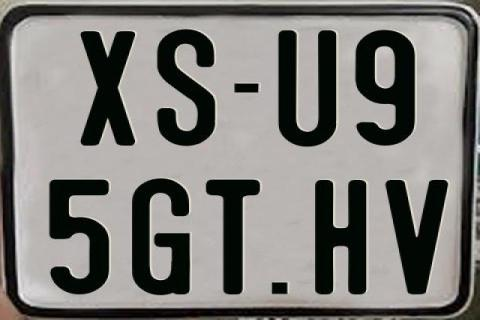0: (48, 179, 111, 297), (356, 28, 416, 146)
G: (129, 177, 191, 293)
H: (314, 180, 366, 298)
S: (155, 28, 215, 150)
T: (203, 177, 258, 295)
U: (275, 28, 336, 149)
V: (382, 178, 452, 294)
X: (80, 29, 139, 145)
